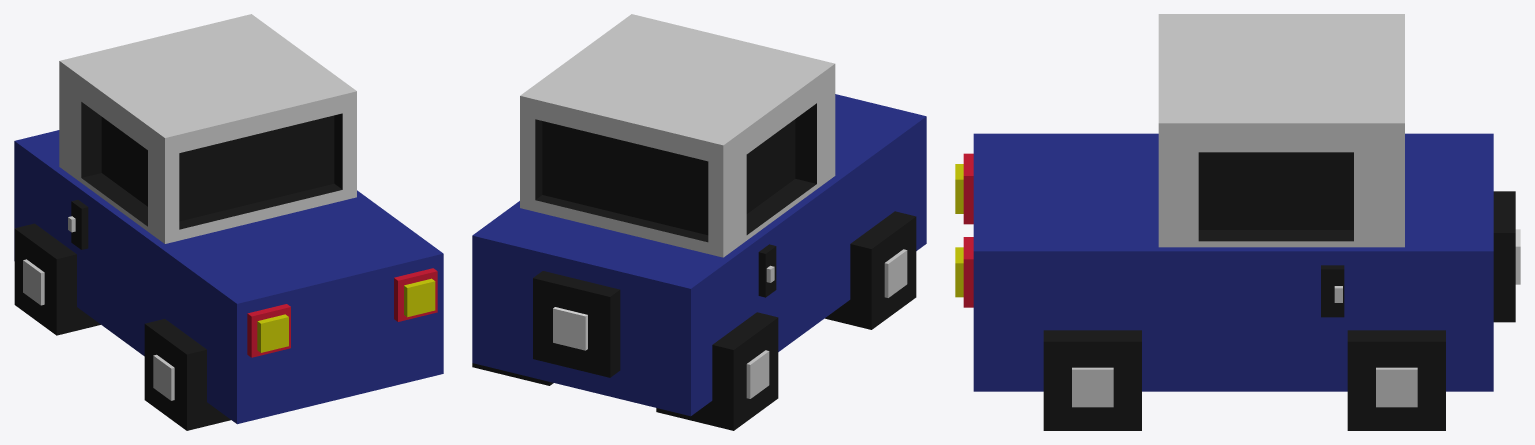
Rendered from cubeCar1.fbx.
The picture shows the model from 3 angles, left to right: view 1: azimuth 30°, elevation 25°; view 2: azimuth 150°, elevation 25°; view 3: azimuth 270°, elevation 25°; orthographic projection. The views are drawn at different scales.
Parts seen in each view (by area): view 1: Cube, Cube.001, Cube.015, Cube.018, Cube.003, Cube.014, Cube.012, Cube.013, Cube.017, Cube.016, Cube.007; view 2: Cube.001, Cube, Cube.020, Cube.018, Cube.015, Cube.019, Cube.017, Cube.016, Cube.007; view 3: Cube, Cube.001, Cube.011, Cube.002, Cube.020, Cube.010, Cube.006, Cube.005, Cube.012, Cube.013.
Boxes of the visible parts, <box> form: Cube: <box>14,130,443,424</box>; Cube.001: <box>59,14,356,243</box>; Cube.015: <box>144,319,230,430</box>; Cube.018: <box>14,223,100,335</box>; Cube.003: <box>257,314,288,352</box>; Cube.014: <box>404,278,435,317</box>; Cube.012: <box>247,304,290,357</box>; Cube.013: <box>394,268,437,321</box>; Cube.017: <box>23,259,44,305</box>; Cube.016: <box>153,354,174,400</box>; Cube.007: <box>71,200,88,249</box>; Cube.001: <box>520,14,835,257</box>; Cube: <box>472,94,926,416</box>; Cube.020: <box>533,271,620,377</box>; Cube.018: <box>656,312,778,430</box>; Cube.015: <box>825,211,916,329</box>; Cube.019: <box>553,307,587,350</box>; Cube.017: <box>746,350,769,398</box>; Cube.016: <box>884,249,907,297</box>; Cube.007: <box>758,244,776,297</box>; Cube: <box>973,133,1493,391</box>; Cube.001: <box>1158,14,1404,247</box>; Cube.011: <box>1043,330,1141,430</box>; Cube.002: <box>1347,330,1445,430</box>; Cube.020: <box>1493,191,1515,322</box>; Cube.010: <box>1072,367,1113,407</box>; Cube.006: <box>1376,367,1417,407</box>; Cube.005: <box>1321,265,1344,317</box>; Cube.012: <box>963,153,973,224</box>; Cube.013: <box>963,237,973,307</box>.
Bounding box in the file's own units: 4.42 × 4.16 × 7.29.
